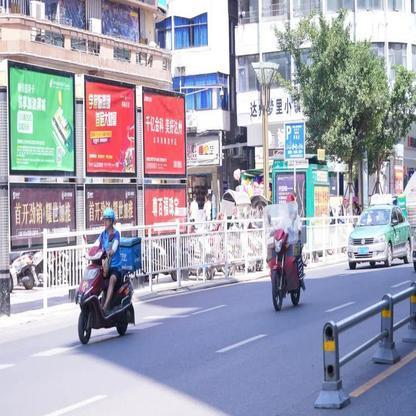target: (72, 206, 149, 347)
